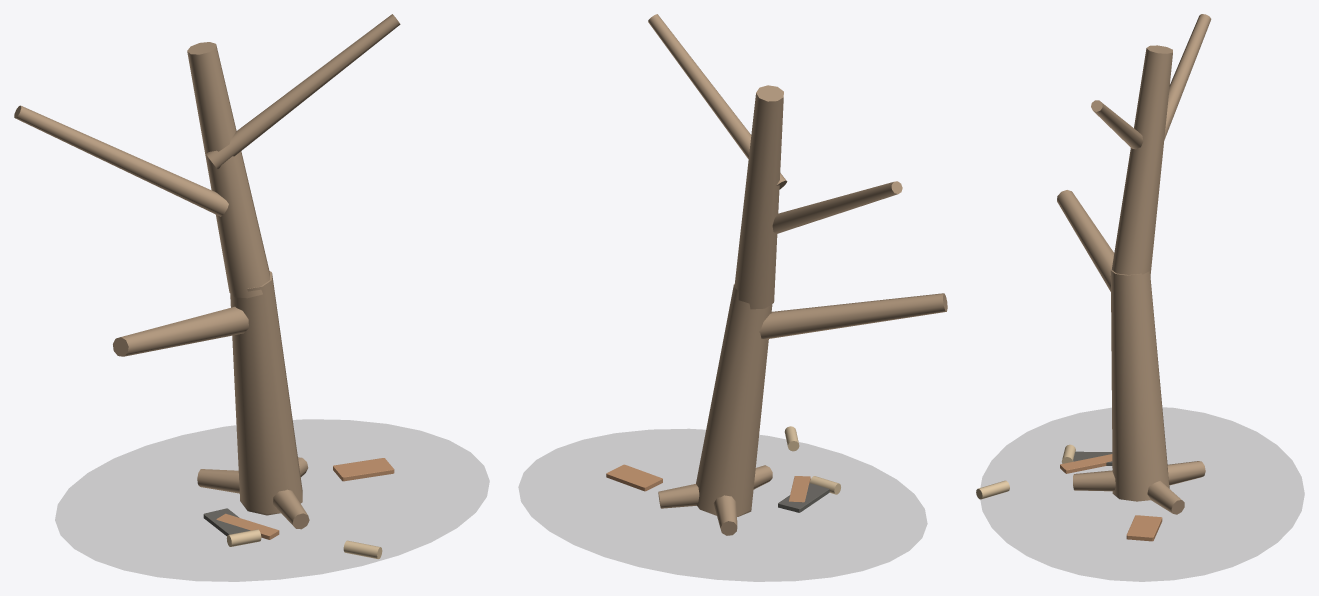
File: dead_tree_b.glb
The picture shows the model from 3 angles, left to right: view 1: azimuth 30°, elevation 25°; view 2: azimuth 150°, elevation 25°; view 3: azimuth 270°, elevation 25°; orthographic projection. The views are drawn at different scales.
Parts seen in each view (by area): view 1: painted_contact_shadow, twisted_main_trunk_lower, twisted_main_trunk_upper, bleached_branch_1, bleached_branch_2, bleached_branch_0, loose_scrap_flake_0, surface_root_0, surface_root_2; view 2: painted_contact_shadow, twisted_main_trunk_lower, twisted_main_trunk_upper, bleached_branch_0, bleached_branch_2, bleached_branch_1, loose_scrap_flake_0, surface_root_1, surface_root_0, loose_scrap_flake_3; view 3: painted_contact_shadow, twisted_main_trunk_lower, twisted_main_trunk_upper, bleached_branch_0, bleached_branch_1, bleached_branch_2, surface_root_2, loose_scrap_flake_0, surface_root_1, surface_root_0, loose_scrap_flake_4.
Boxes of the visible parts, <box> form: painted_contact_shadow: <box>55,419,489,581</box>; twisted_main_trunk_lower: <box>230,271,302,515</box>; twisted_main_trunk_upper: <box>187,42,269,298</box>; bleached_branch_1: <box>14,105,228,216</box>; bleached_branch_2: <box>206,14,400,168</box>; bleached_branch_0: <box>113,306,248,356</box>; loose_scrap_flake_0: <box>333,458,394,481</box>; surface_root_0: <box>197,469,239,493</box>; surface_root_2: <box>273,489,309,529</box>; painted_contact_shadow: <box>518,429,927,581</box>; twisted_main_trunk_lower: <box>696,284,772,516</box>; twisted_main_trunk_upper: <box>734,85,783,309</box>; bleached_branch_0: <box>759,293,947,339</box>; bleached_branch_2: <box>648,14,787,189</box>; bleached_branch_1: <box>772,181,902,233</box>; loose_scrap_flake_0: <box>606,464,662,491</box>; surface_root_1: <box>658,484,699,508</box>; surface_root_0: <box>713,495,737,535</box>; loose_scrap_flake_3: <box>778,483,829,512</box>; painted_contact_shadow: <box>980,407,1304,581</box>; twisted_main_trunk_lower: <box>1110,269,1169,501</box>; twisted_main_trunk_upper: <box>1110,45,1172,276</box>; bleached_branch_0: <box>1057,190,1114,291</box>; bleached_branch_1: <box>1164,14,1211,139</box>; bleached_branch_2: <box>1091,100,1143,149</box>; surface_root_2: <box>1073,470,1115,491</box>; loose_scrap_flake_0: <box>1126,515,1162,541</box>; surface_root_1: <box>1147,481,1184,514</box>; surface_root_0: <box>1167,461,1205,485</box>; loose_scrap_flake_4: <box>1060,454,1112,473</box>.
Size of the model in its own units: 1.96 by 2.14 by 1.45.
